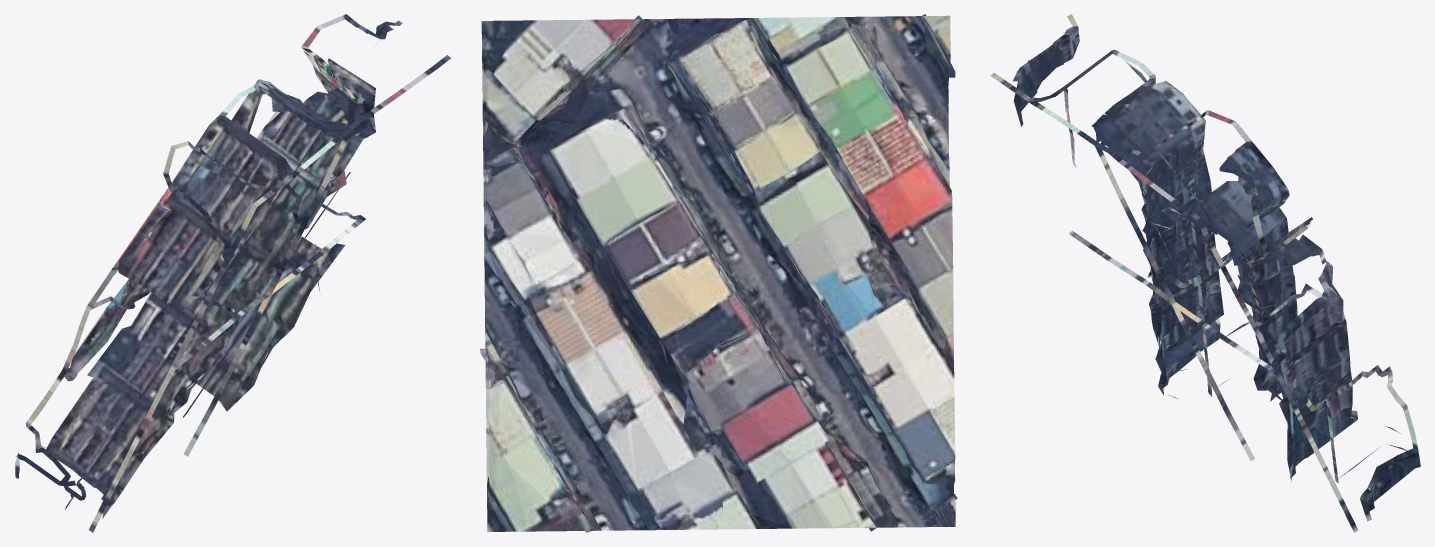
3 renders of one model, left to right at view 1: azimuth 30°, elevation 25°; view 2: azimuth 150°, elevation 25°; view 3: azimuth 270°, elevation 25°, orthographic. The views are drawn at different scales.
Size of the model in its own units: 84.63 by 77.19 by 75.55.
1 material, 1 textured.
